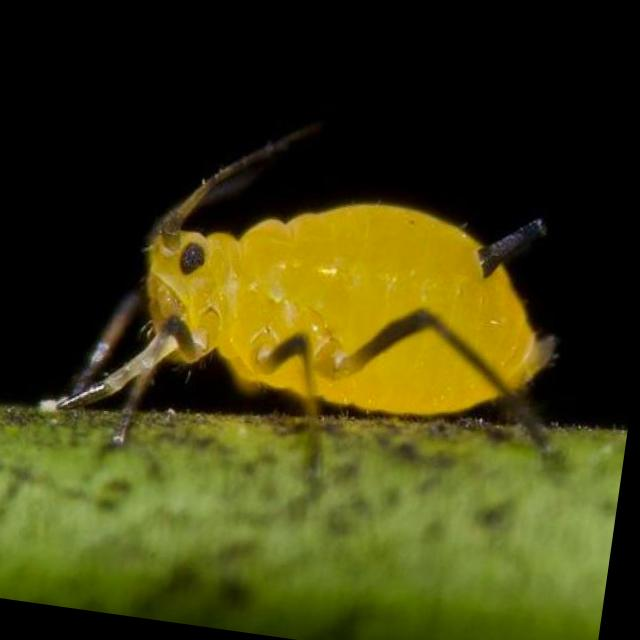aphid: (32, 72, 626, 540)
